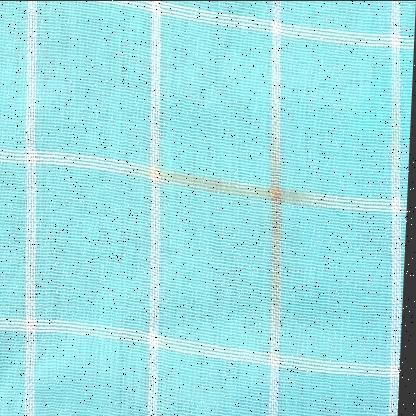spot: (179, 172, 274, 200), (269, 205, 288, 305), (270, 119, 285, 204), (135, 163, 182, 187), (285, 188, 324, 210)
